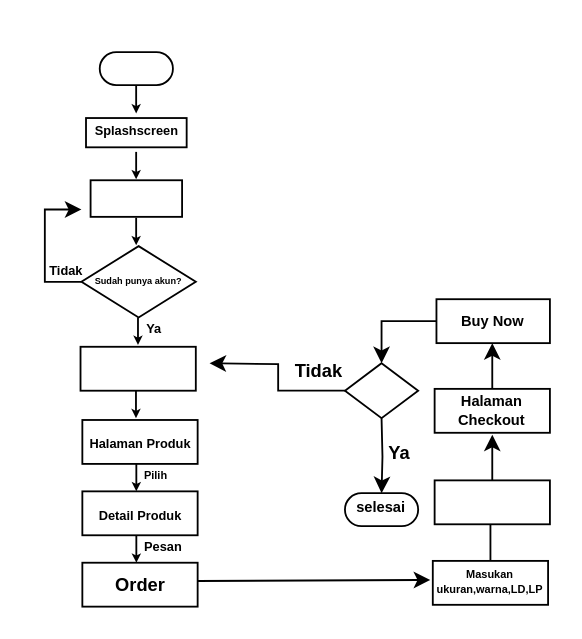
This 582x639 diagram has some shape labels left out. The shapes that lost their labels are listed below. From the top down, each one's centre as x and y in pixels, then its label:
the point at 135,67: mulai
the point at 135,197: Login
the point at 137,368: HomePage
the point at 380,389: yakin order?
the point at 491,501: Masuk ke keranjang
